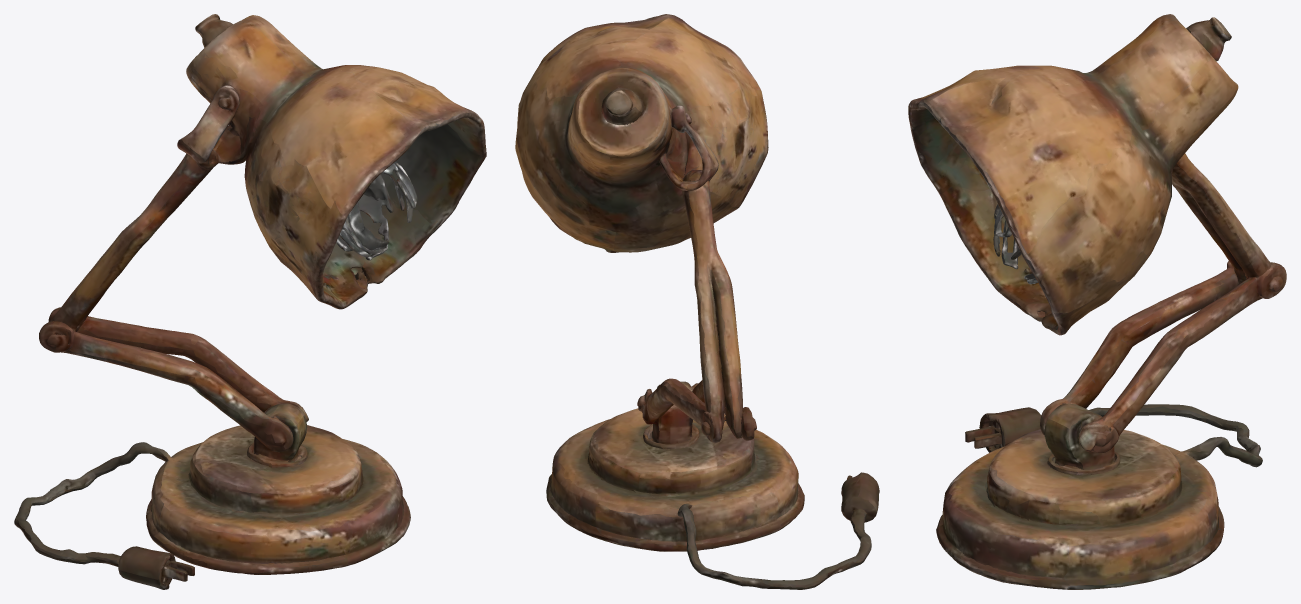
Rendered from lamp-broken.glb.
The picture shows the model from 3 angles, left to right: view 1: azimuth 30°, elevation 25°; view 2: azimuth 150°, elevation 25°; view 3: azimuth 270°, elevation 25°; orthographic projection. The views are drawn at different scales.
Visible parts, largest first — view 1: geometry_0; view 2: geometry_0; view 3: geometry_0.
Boxes of the visible parts, x1=… form: geometry_0: x1=14, y1=14, x2=486, y2=589; geometry_0: x1=515, y1=14, x2=879, y2=589; geometry_0: x1=908, y1=14, x2=1286, y2=589.
Bounding box in the file's own units: 0.4029 × 0.45 × 0.2979.
Materials: 1 (1 with a texture image).
